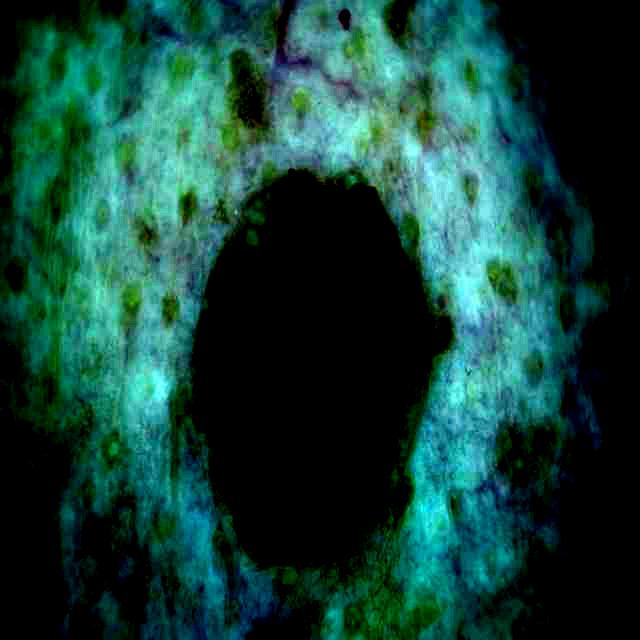BKL: (196, 169, 423, 553)
